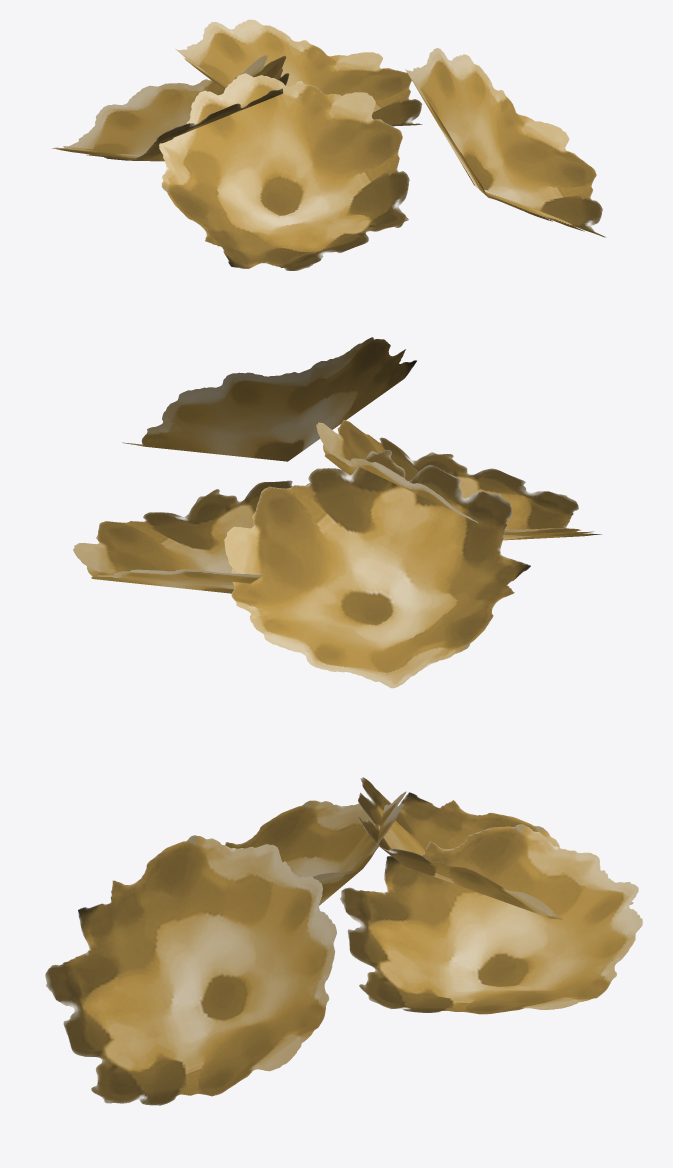
The model's file is YellowFlowers.fbx.
The picture shows the model from 3 angles, top to bottom: view 1: azimuth 30°, elevation 25°; view 2: azimuth 150°, elevation 25°; view 3: azimuth 270°, elevation 25°; orthographic projection. The views are drawn at different scales.
Visible parts, largest first — view 1: YellowFlowers; view 2: YellowFlowers; view 3: YellowFlowers.
Boxes of the visible parts, x1=… form: YellowFlowers: x1=52, y1=19, x2=606, y2=270; YellowFlowers: x1=73, y1=337, x2=601, y2=688; YellowFlowers: x1=45, y1=777, x2=642, y2=1105.
Size of the model in its own units: 0.5463 by 0.2518 by 0.5695.
